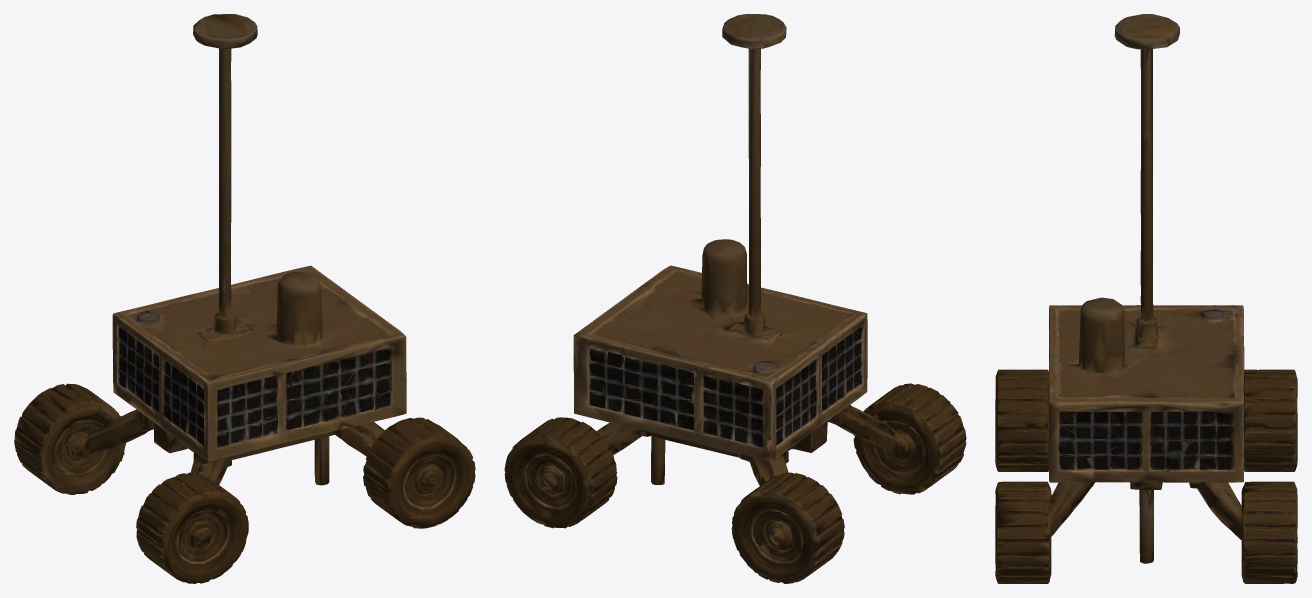
File: shackleton-low.glb
3 views of the same model, side by side, from view 1: azimuth 30°, elevation 25°; view 2: azimuth 150°, elevation 25°; view 3: azimuth 270°, elevation 25° (orthographic).
Size of the model in its own units: 1.31 by 1.9 by 1.07.
1 material, 1 textured.
